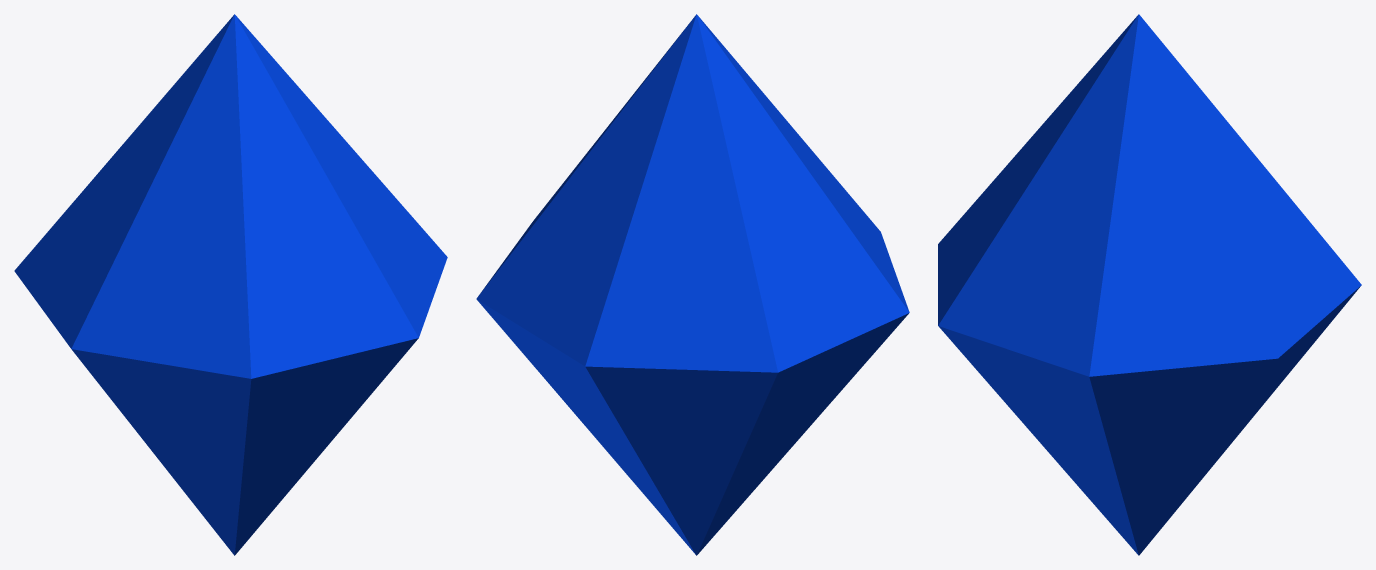
The model's file is Gem6.fbx.
3 renders of one model, left to right at view 1: azimuth 30°, elevation 25°; view 2: azimuth 150°, elevation 25°; view 3: azimuth 270°, elevation 25°, orthographic.
Visible parts, largest first — view 1: Cone; view 2: Cone; view 3: Cone.
Boxes of the visible parts, x1,y1,x2,y2 form: Cone: (14,14,447,555); Cone: (476,14,909,555); Cone: (938,14,1361,555).
Bounding box in the file's own units: 195 × 268 × 190.
